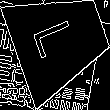L_E: (34, 18, 86, 64)
